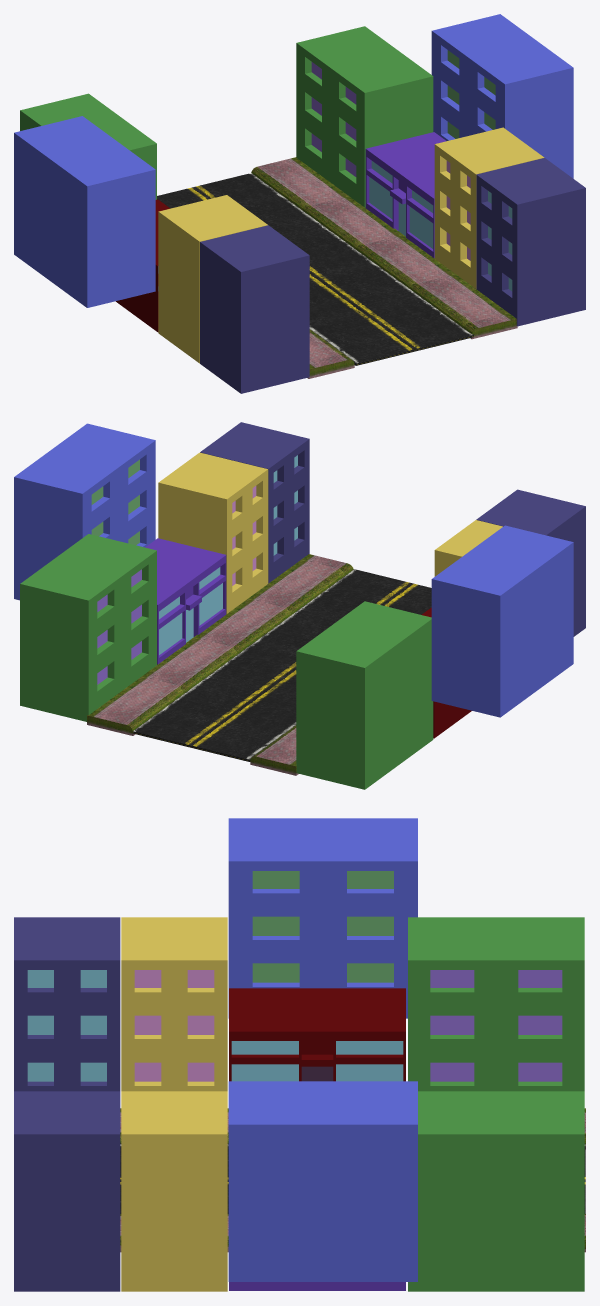
File: haberdasheryStreet.fbx
The picture shows the model from 3 angles, top to bottom: view 1: azimuth 30°, elevation 25°; view 2: azimuth 150°, elevation 25°; view 3: azimuth 270°, elevation 25°; orthographic projection. The views are drawn at different scales.
Parts seen in each view (by area): view 1: Cube.006, Cube.009, Cube.007, Cube.005, Cube.013, Cube.012, Cube.015, Cube.004, Cube.011, Cube.010, Cube.002, Cube.003 (+1 smaller); view 2: Cube.006, Cube.002, Cube.009, Cube.007, Cube.013, Cube.011, Cube.015, Cube.012, Cube.010, Cube.005, Cube.004, Cube.014 (+1 smaller); view 3: Cube.013, Cube.009, Cube.006, Cube.002, Cube.011, Cube.012, Cube.004, Cube.005, Cube.003, Cube.010.
Boxes of the visible parts, x1,y1,x2,y2 form: Cube.006: (14,116,155,307); Cube.009: (296,26,433,207); Cube.007: (157,173,473,365); Cube.005: (200,225,309,393); Cube.013: (431,14,573,178); Cube.012: (476,158,585,326); Cube.015: (251,157,517,339); Cube.004: (158,195,267,363); Cube.011: (434,127,544,288); Cube.010: (365,132,446,258); Cube.002: (20,93,156,199); Cube.003: (116,199,169,331); Cube.006: (431,525,573,717); Cube.002: (296,601,433,789); Cube.009: (20,534,156,721); Cube.007: (133,569,431,761); Cube.013: (14,423,155,600); Cube.011: (158,452,268,613); Cube.015: (87,554,353,735); Cube.012: (200,422,309,583); Cube.010: (145,538,226,664); Cube.005: (476,489,585,636); Cube.004: (434,520,502,576); Cube.014: (250,725,298,775); Cube.013: (228,1081,417,1281); Cube.009: (408,1091,584,1291); Cube.006: (228,818,417,1018); Cube.002: (408,917,584,1091); Cube.011: (121,1091,227,1291); Cube.012: (14,1091,120,1291); Cube.004: (121,917,227,1091); Cube.005: (14,917,120,1091); Cube.003: (229,988,405,1081); Cube.010: (229,1282,405,1290).
Size of the model in its own units: 2113 by 691 by 1667.
Materials: 14 (2 with a texture image).
